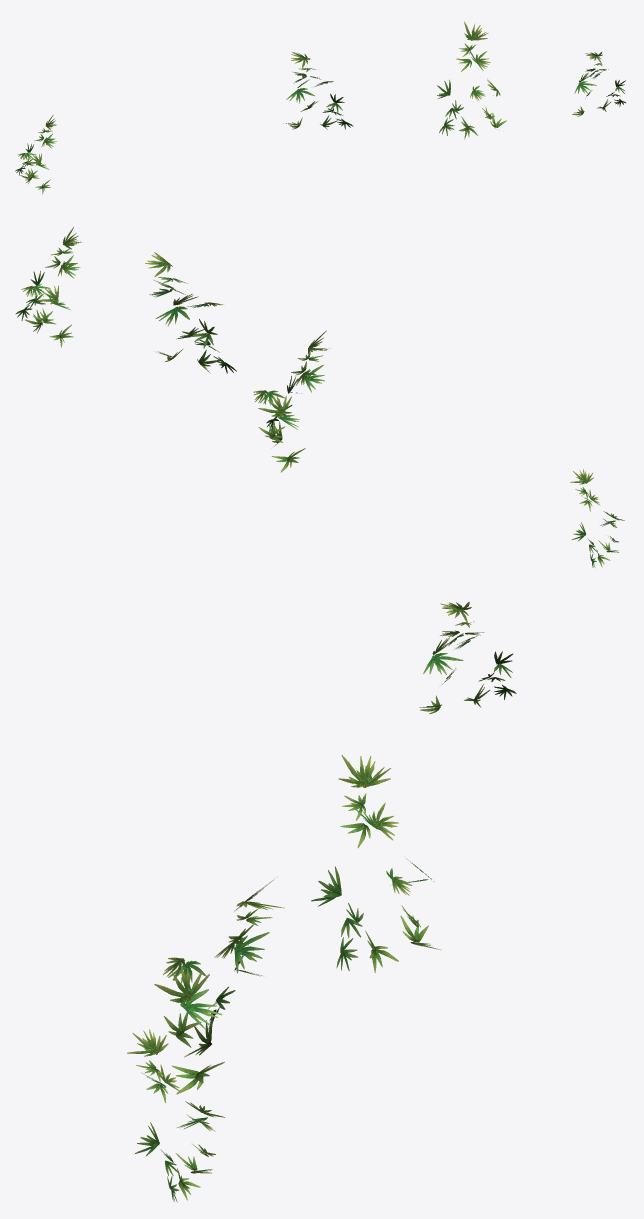
The model's file is Area_12_45.fbx.
3 views of the same model, one above another, from view 1: azimuth 30°, elevation 25°; view 2: azimuth 150°, elevation 25°; view 3: azimuth 270°, elevation 25° (orthographic). The views are drawn at different scales.
Visible parts, largest first — view 1: Area_12_45; view 2: Area_12_45; view 3: Area_12_45.
Part boxes in pixels (<box>): Area_12_45: <box>15,21,625,194</box>; Area_12_45: <box>15,227,624,567</box>; Area_12_45: <box>127,601,516,1202</box>.
Size of the model in its own units: 8382 by 1665 by 2697.
